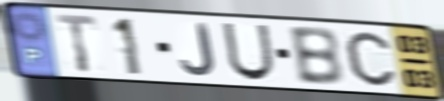1: (110, 16, 145, 77)
B: (285, 25, 347, 88)
C: (343, 30, 398, 89)
J: (178, 21, 218, 78)
T: (53, 12, 100, 74)
U: (220, 21, 277, 83)
